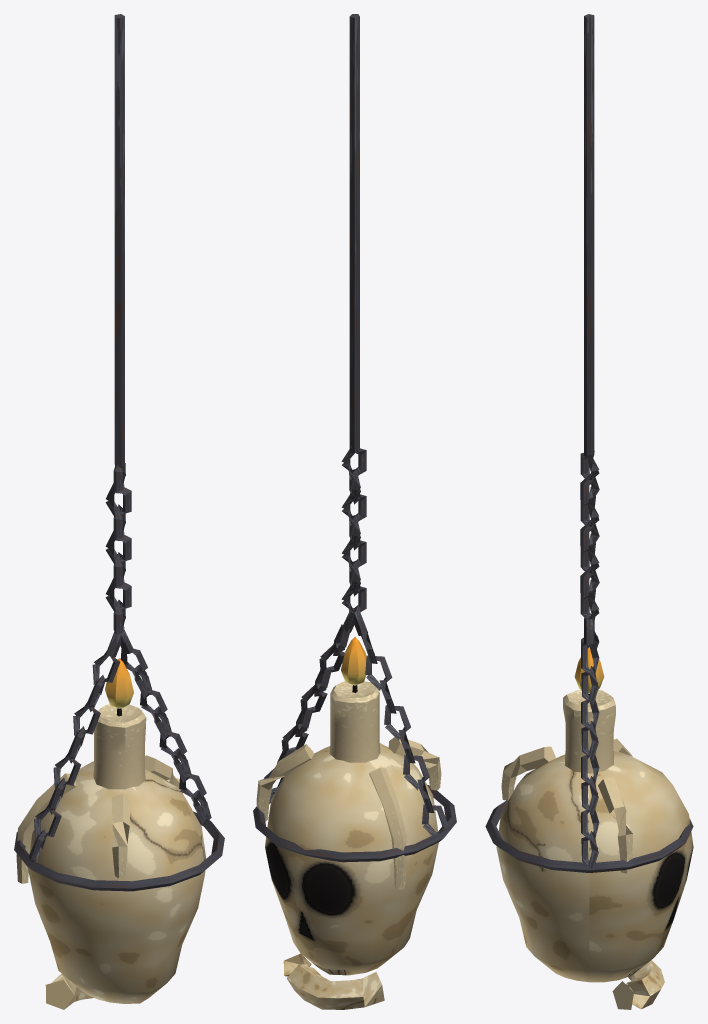
File: Lamp_Skull.fbx
3 renders of one model, left to right at view 1: azimuth 30°, elevation 25°; view 2: azimuth 150°, elevation 25°; view 3: azimuth 270°, elevation 25°, orthographic. The views are drawn at different scales.
Parts seen in each view (by area): view 1: Lamp_Skull; view 2: Lamp_Skull; view 3: Lamp_Skull.
Part boxes in pixels (bbox=[...]): Lamp_Skull: bbox=[14, 14, 224, 1009]; Lamp_Skull: bbox=[253, 14, 456, 1009]; Lamp_Skull: bbox=[485, 14, 693, 1009].
Bounding box in the file's own units: 0.4566 × 2.36 × 0.454.
2 materials, 2 textured.
